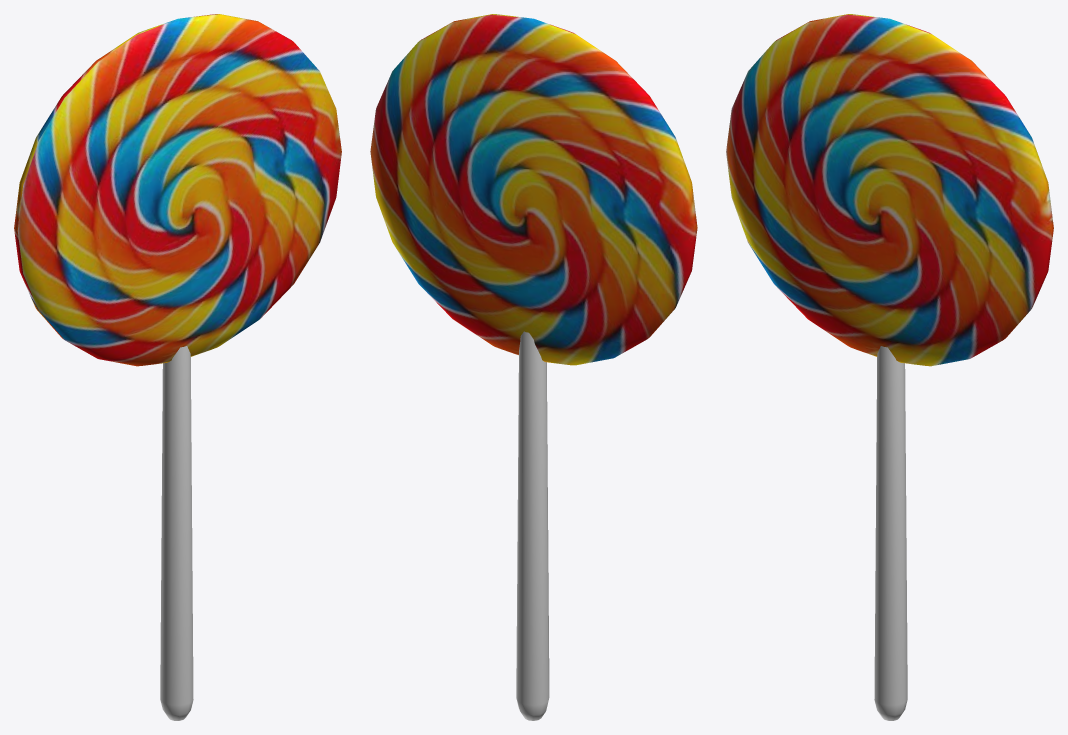
The model's file is piruleta.fbx.
3 renders of one model, left to right at view 1: azimuth 30°, elevation 25°; view 2: azimuth 150°, elevation 25°; view 3: azimuth 330°, elevation 25°, orthographic.
Parts seen in each view (by area): view 1: Sphere, Cylinder; view 2: Sphere, Cylinder; view 3: Sphere, Cylinder.
Part boxes in pixels (bbox=[...]): Sphere: bbox=[14, 14, 341, 366]; Cylinder: bbox=[160, 346, 193, 720]; Sphere: bbox=[370, 14, 697, 365]; Cylinder: bbox=[516, 331, 549, 720]; Sphere: bbox=[726, 14, 1053, 366]; Cylinder: bbox=[874, 346, 907, 720].
Bounding box in the file's own units: 198 × 408 × 27.3.
